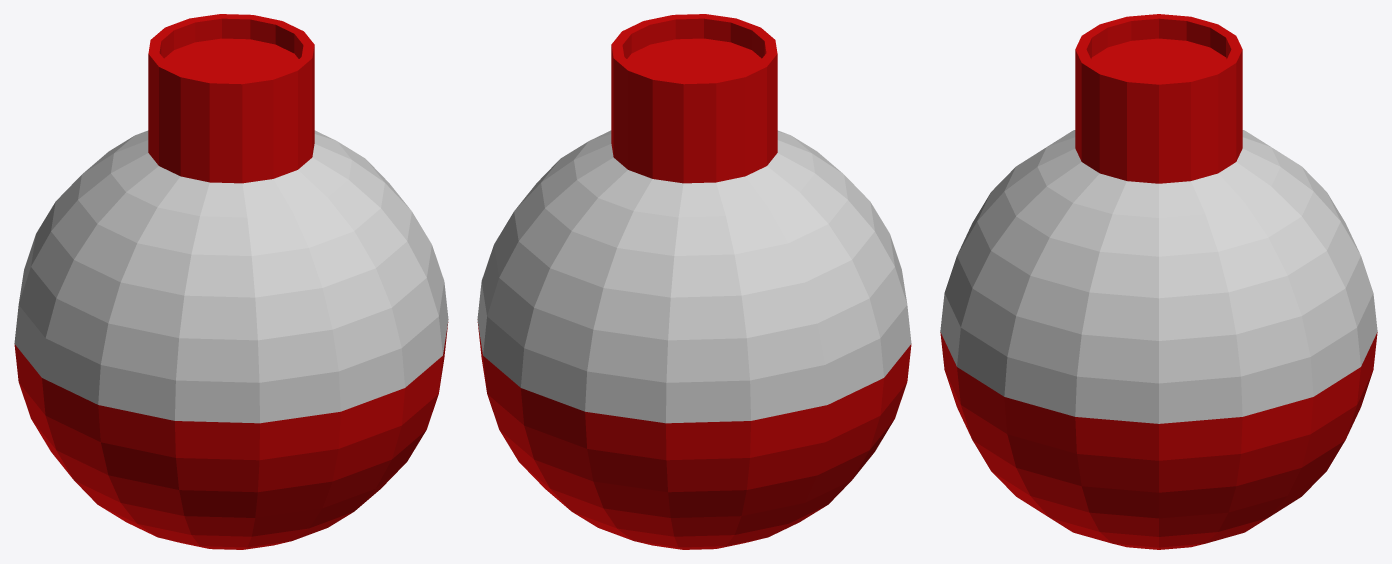
Rendered from float.fbx.
3 views of the same model, side by side, from view 1: azimuth 30°, elevation 25°; view 2: azimuth 150°, elevation 25°; view 3: azimuth 270°, elevation 25° (orthographic).
Visible parts, largest first — view 1: Sphere; view 2: Sphere; view 3: Sphere.
Part boxes in pixels (x1,y1,x2,y2): Sphere: (14, 14, 448, 549); Sphere: (477, 14, 911, 549); Sphere: (940, 14, 1377, 549).
Bounding box in the file's own units: 100 × 121 × 100.
